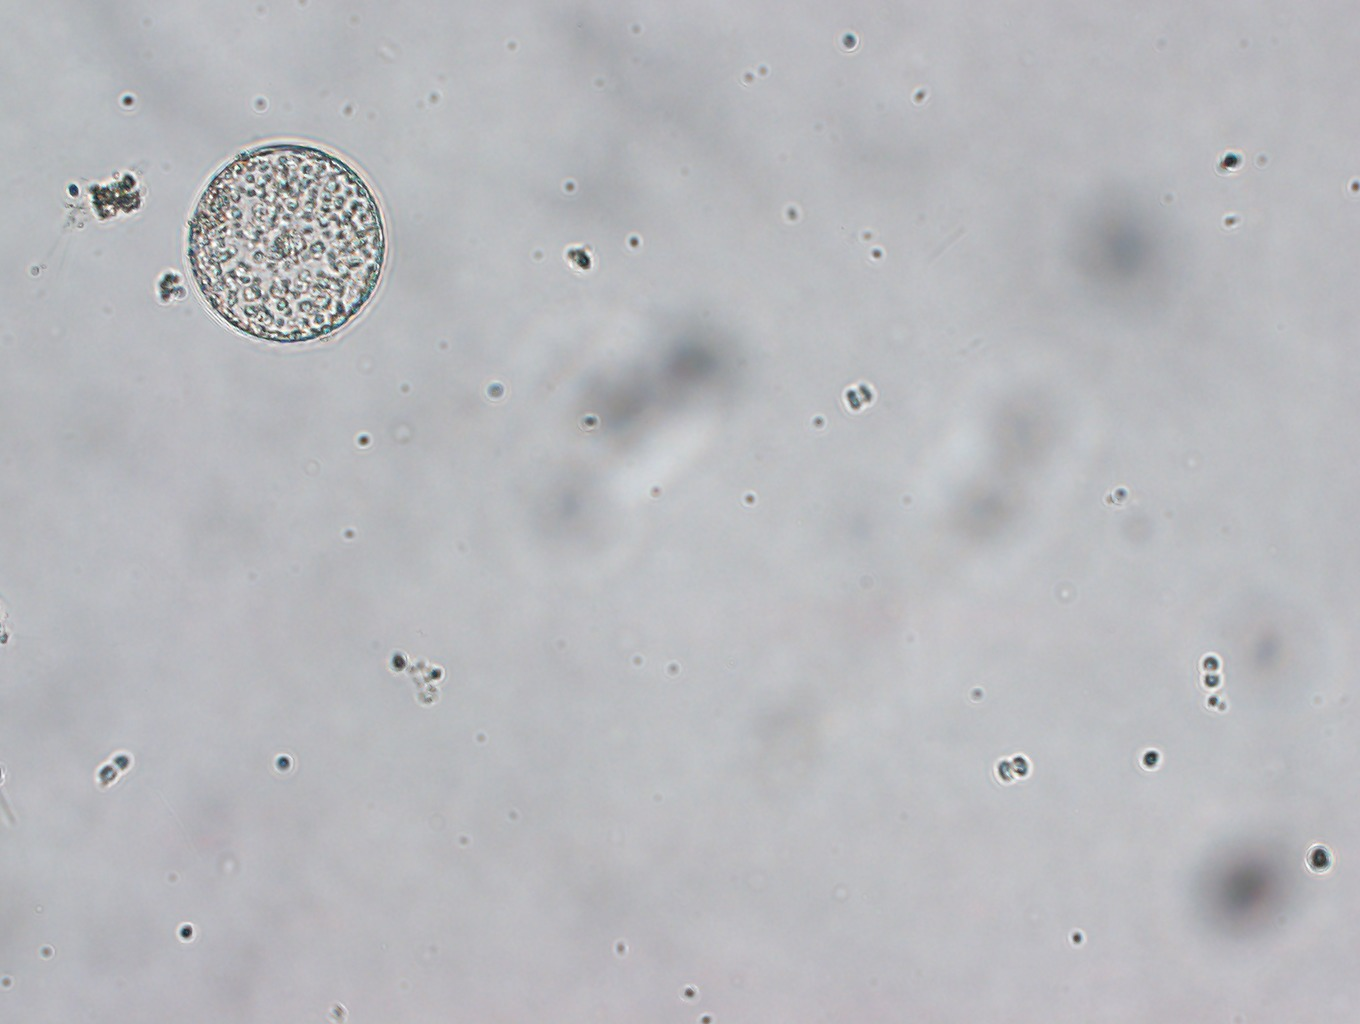coscinodiscus: (178, 133, 387, 349)
